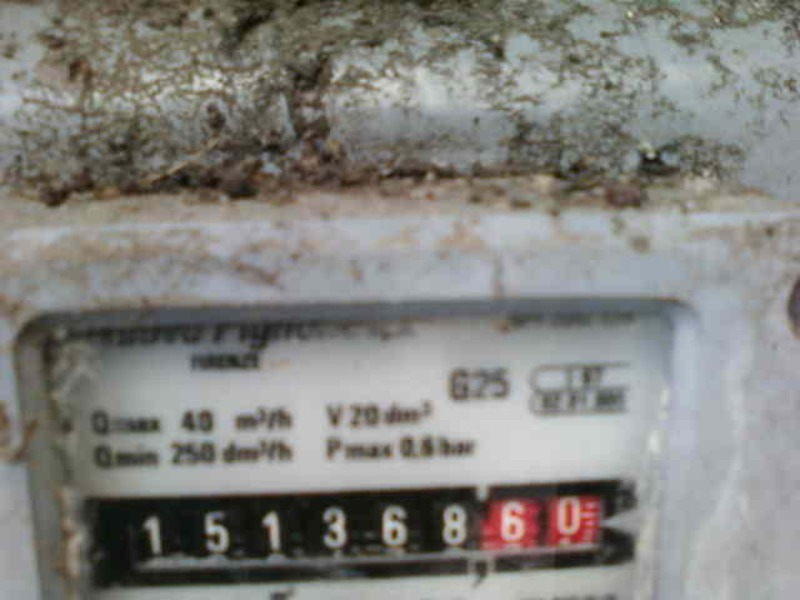ssgc: (89, 488, 636, 579)
